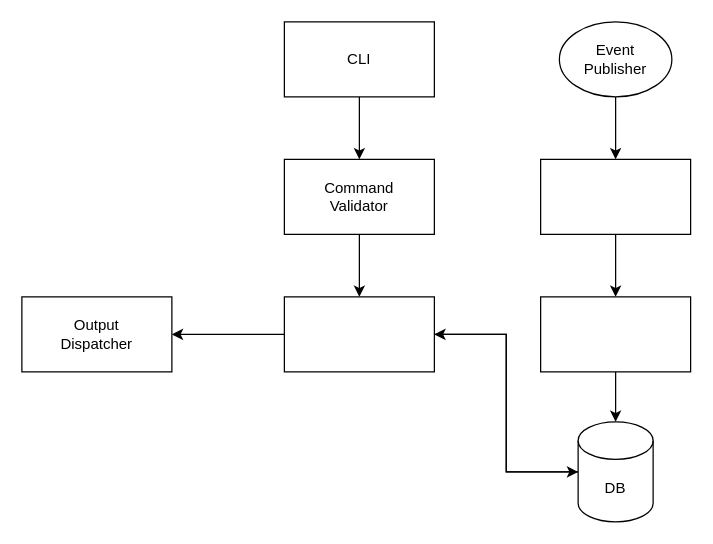
Some shapes in this 713 by 544 pixel diagram are drawn without their labels. The centre of each missing label's shape, as x and y in pixels:
Event Parser: [615,334]
Event Subscriber: [615,196]
Translation duration Moving Average: [358,334]
